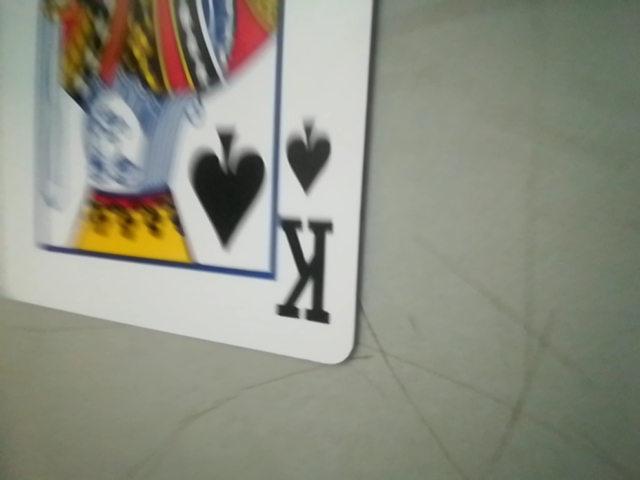ht k: (268, 116, 353, 338)
